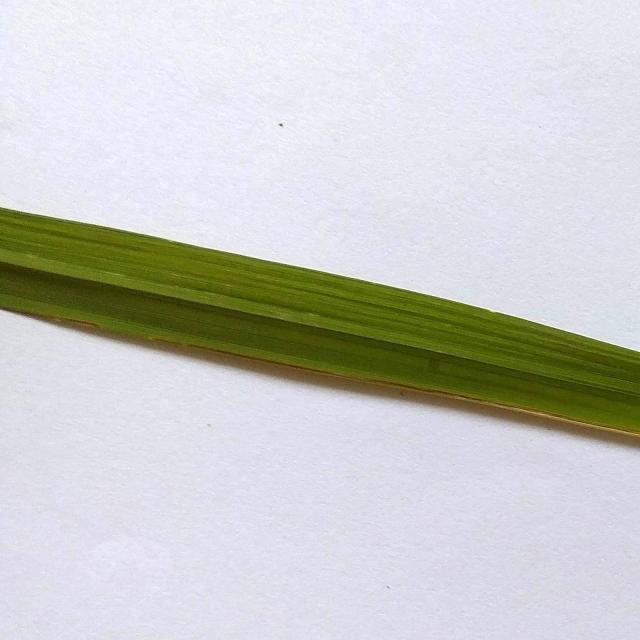healthy: (0, 132, 640, 484)
